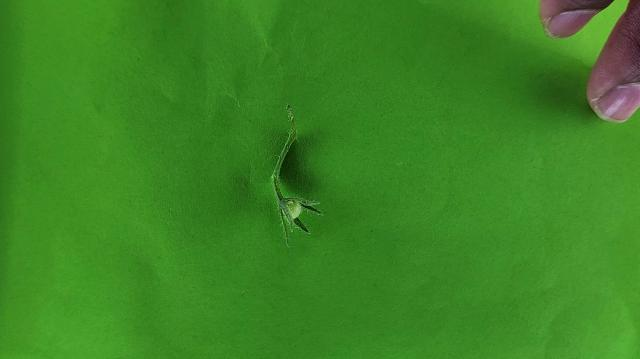Fruit Bud: (277, 194, 323, 242)
